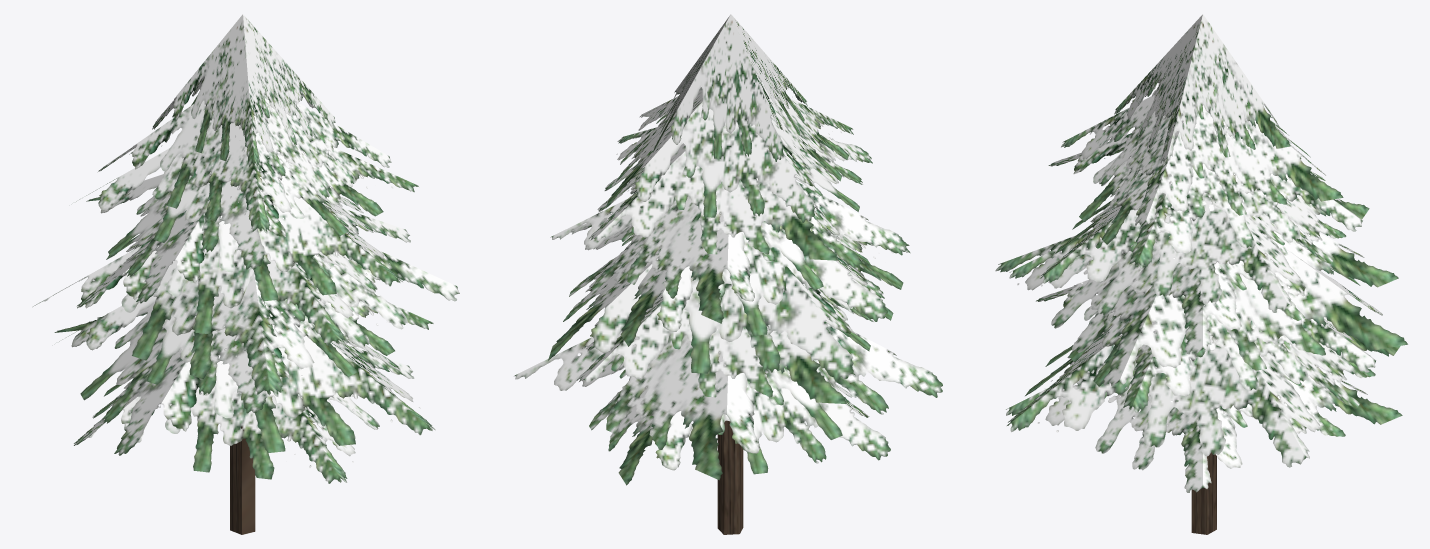
The model's file is tree.fbx.
3 renders of one model, left to right at view 1: azimuth 30°, elevation 25°; view 2: azimuth 150°, elevation 25°; view 3: azimuth 270°, elevation 25°, orthographic.
Visible parts, largest first — view 1: tree.097; view 2: tree.097; view 3: tree.097.
Boxes of the visible parts, left/top/right/bottom form: tree.097: left=33, top=14, right=459, bottom=534; tree.097: left=514, top=14, right=942, bottom=534; tree.097: left=995, top=14, right=1407, bottom=534.
Size of the model in its own units: 732 by 979 by 732.
